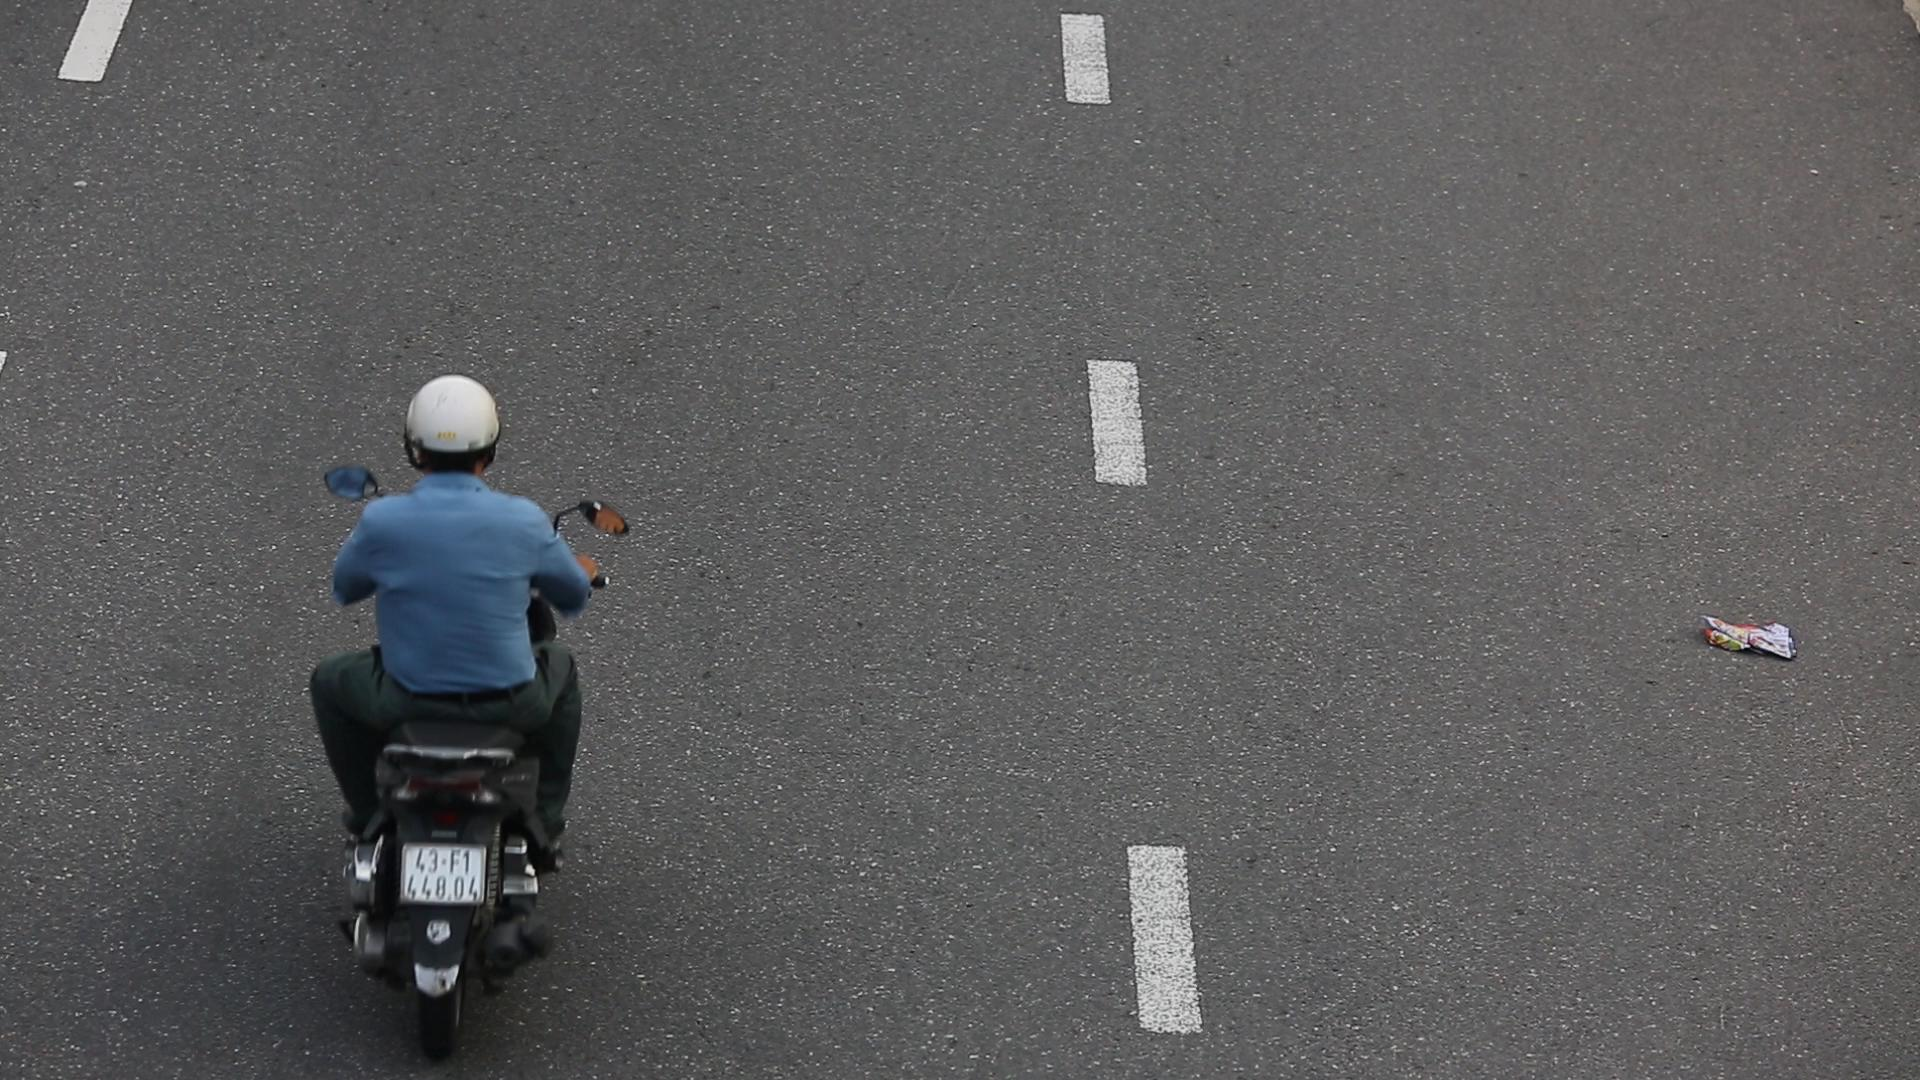motobike: (302, 368, 611, 1065)
